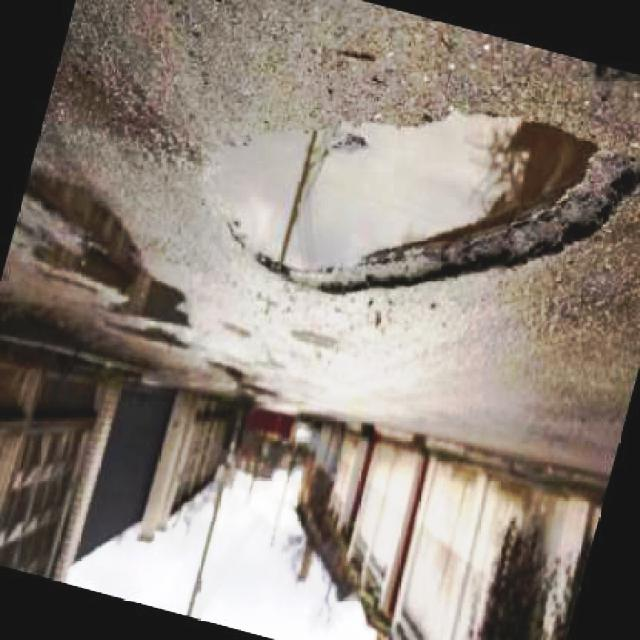pothole: (206, 110, 640, 298)
